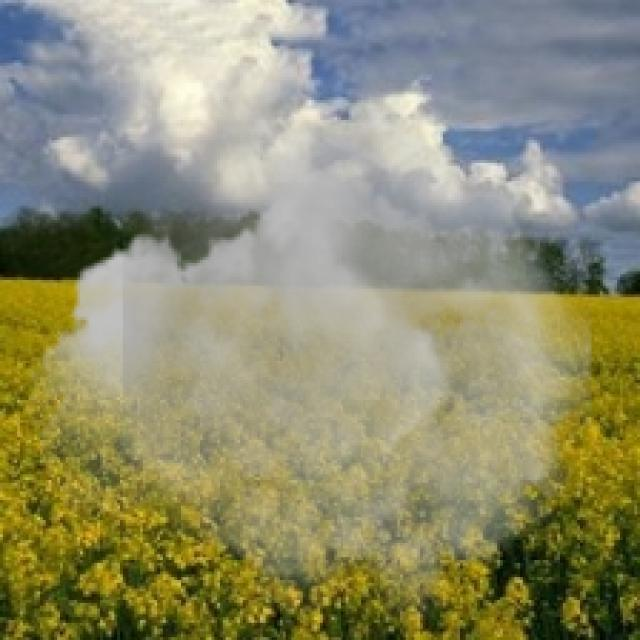Smoke: (29, 71, 592, 626)
